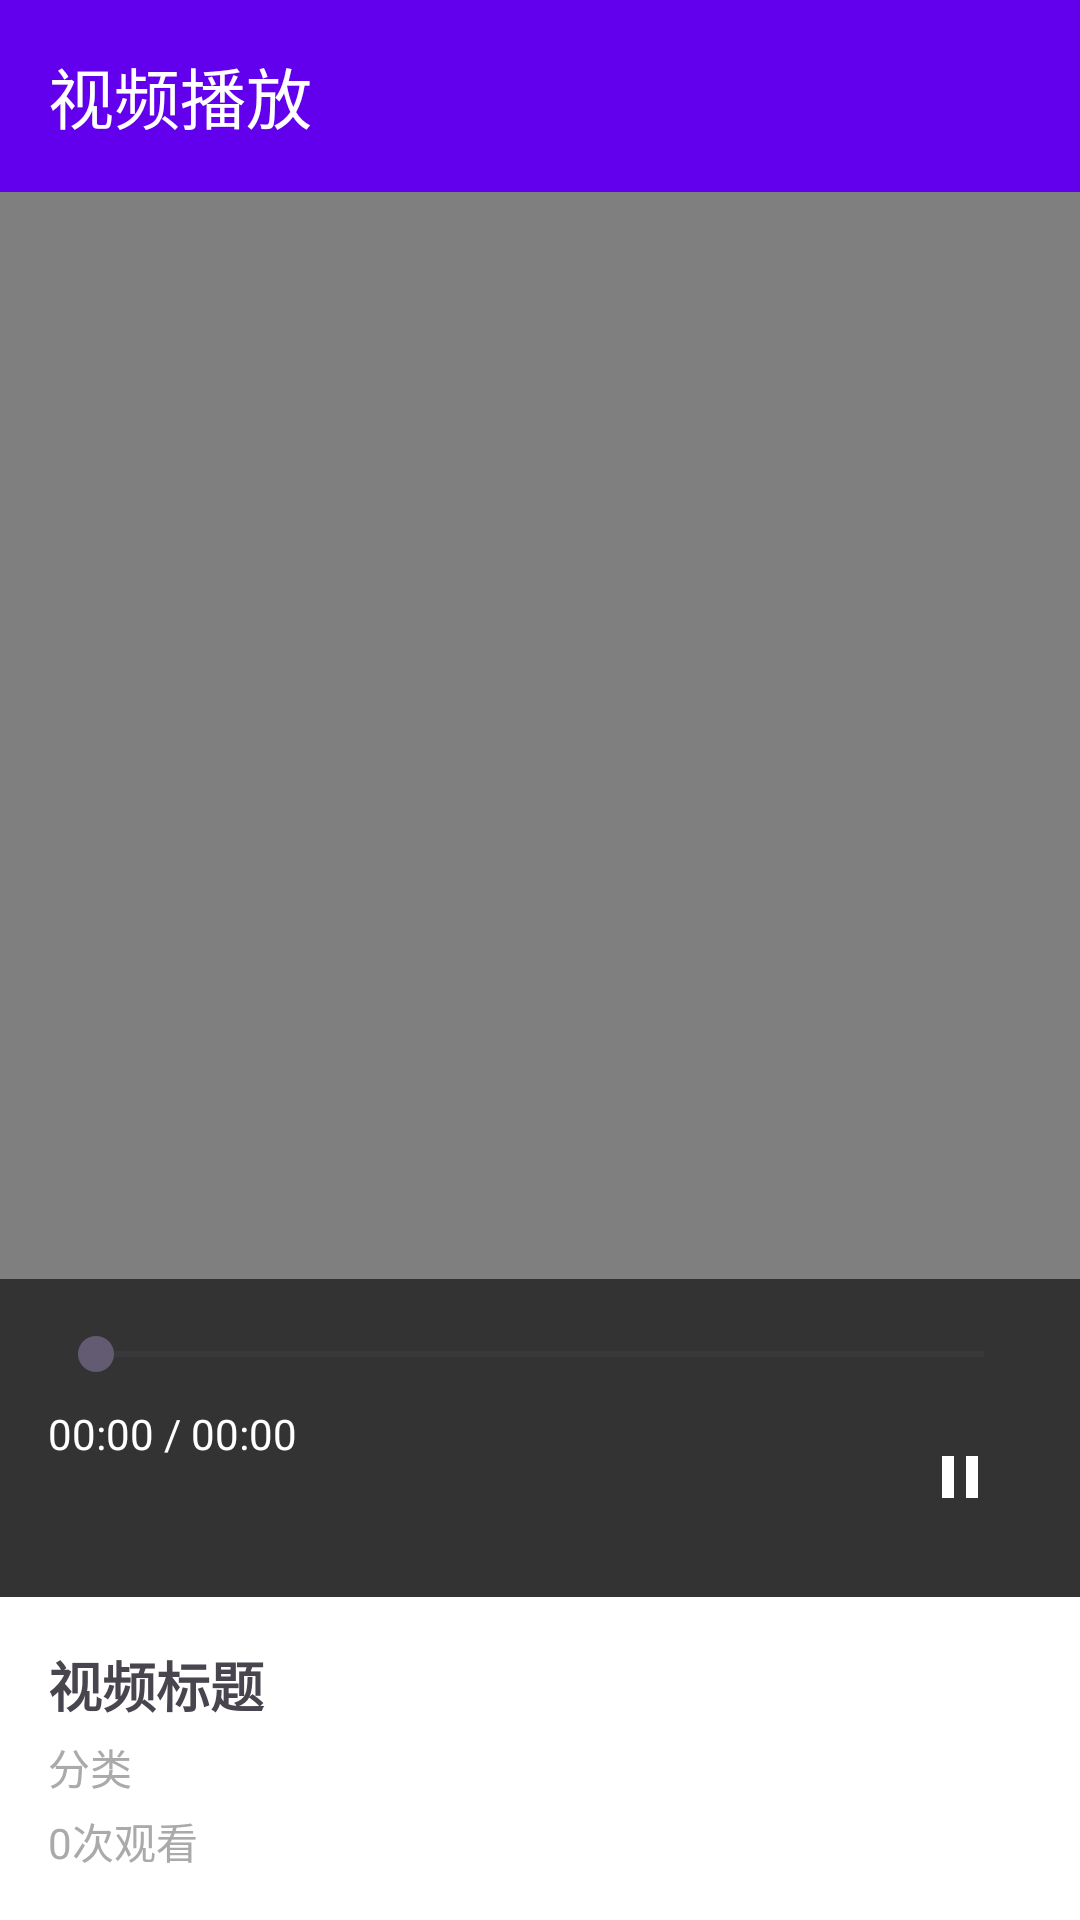

Named icons in this screenshot (1080w x 1920h) and their centers, (x,y):
pause: (960,1477)
